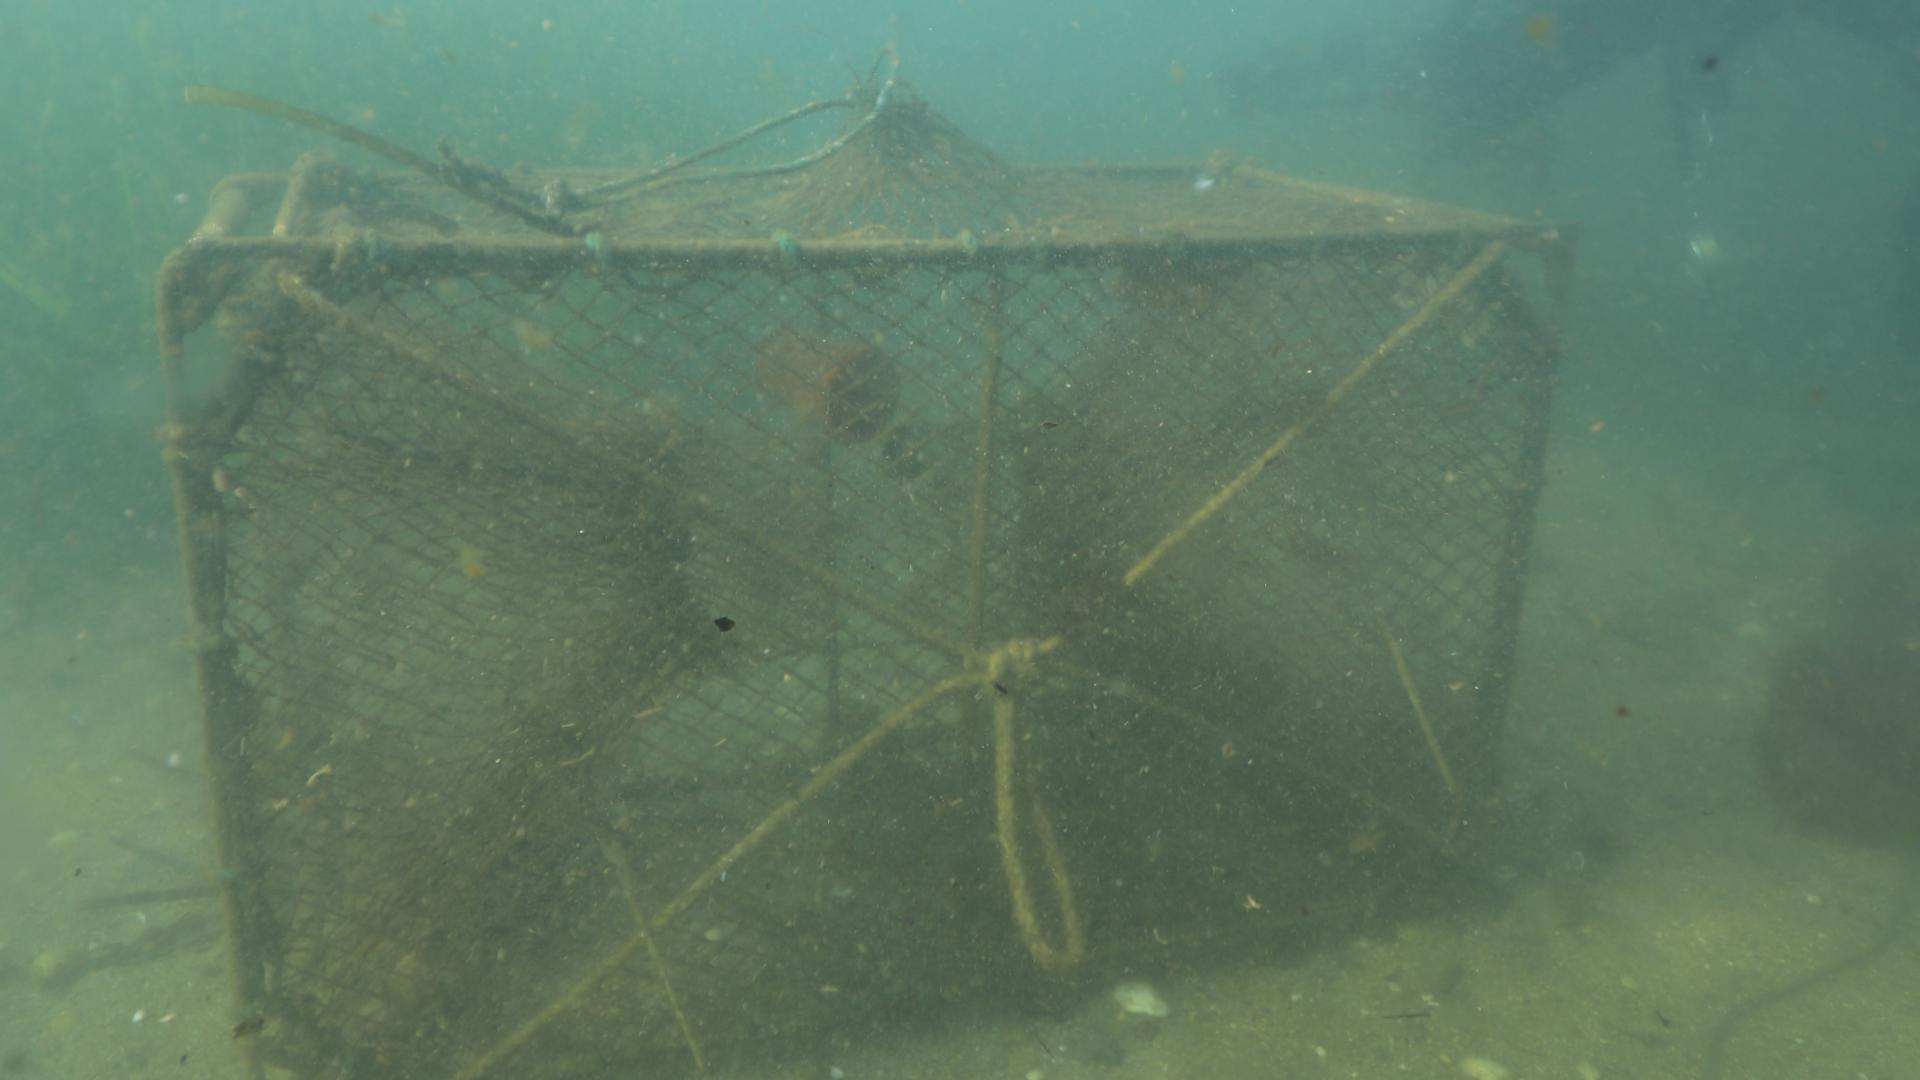rectangular fish trap: (158, 102, 1575, 1080)
